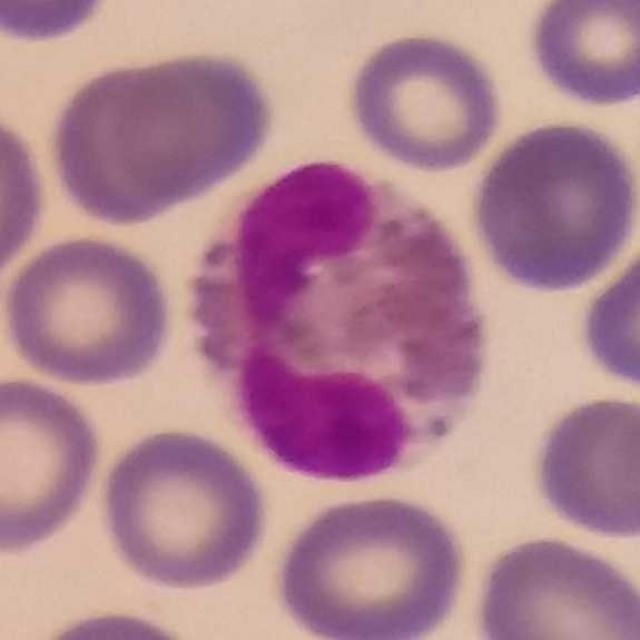eosino: (187, 162, 490, 482)
